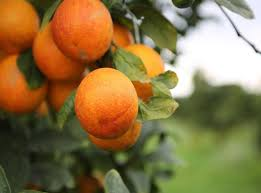orange: (76, 65, 138, 138), (52, 1, 117, 59), (3, 46, 51, 121), (31, 21, 87, 83)
